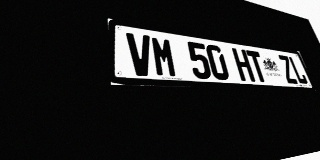0: (205, 44, 230, 80)
5: (187, 41, 213, 79)
H: (231, 48, 256, 82)
L: (288, 56, 309, 84)
M: (150, 36, 178, 78)
T: (246, 50, 269, 82)
V: (126, 32, 155, 77)
Z: (277, 55, 299, 84)
